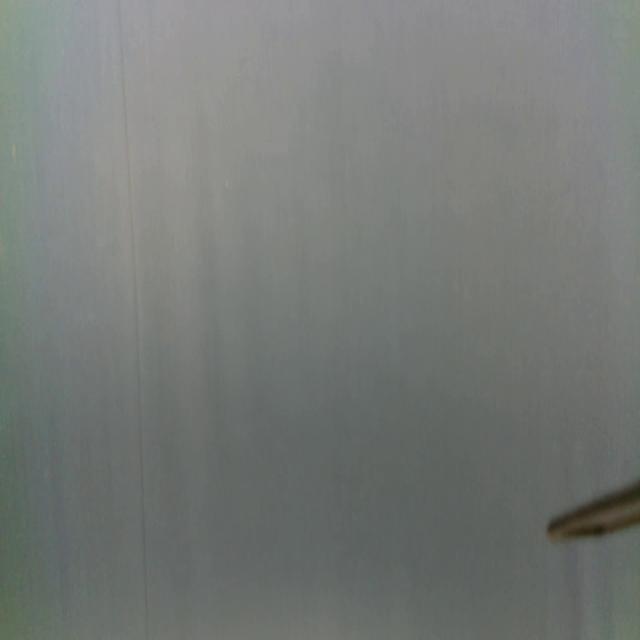crease: (116, 0, 150, 640)
